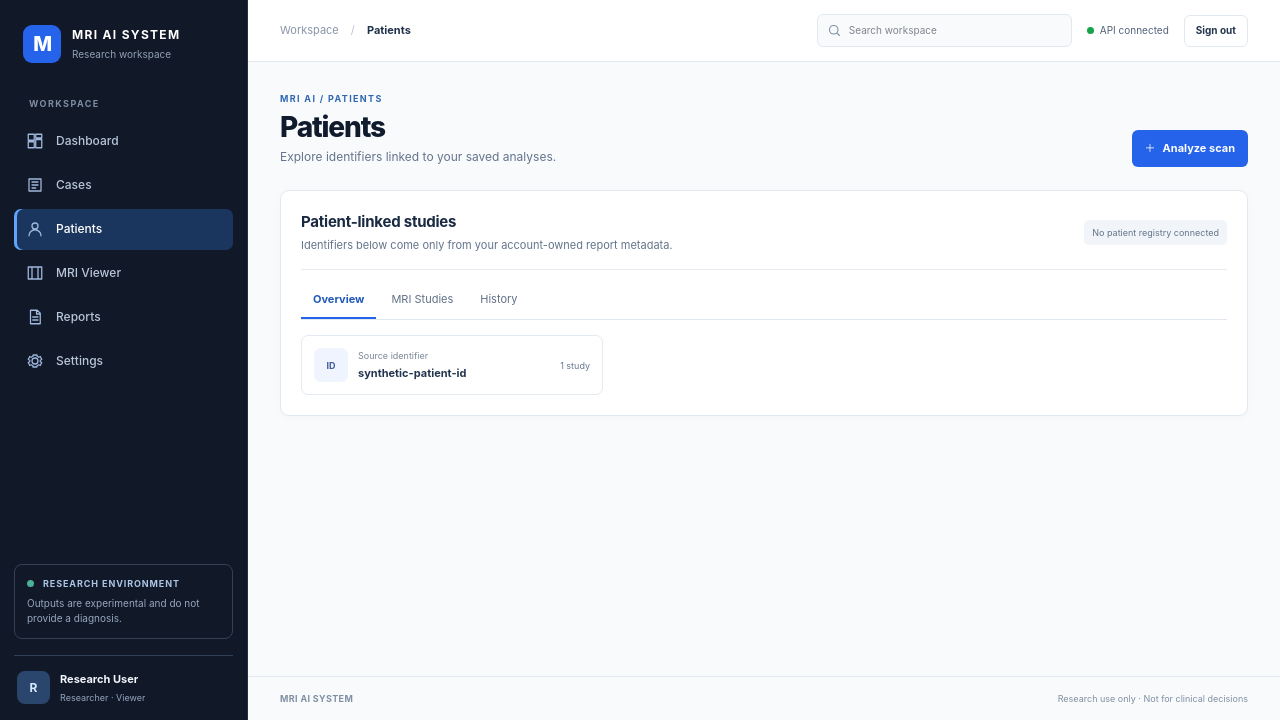
Test case: MRI research workspace › shows only patient identifiers present in owned report metadata
Expected: the text "synthetic-patient-id" is shown, [358, 366, 466, 380]
Click the tab "MRI Studies" at x=422, y=300, box [379, 281, 465, 319]
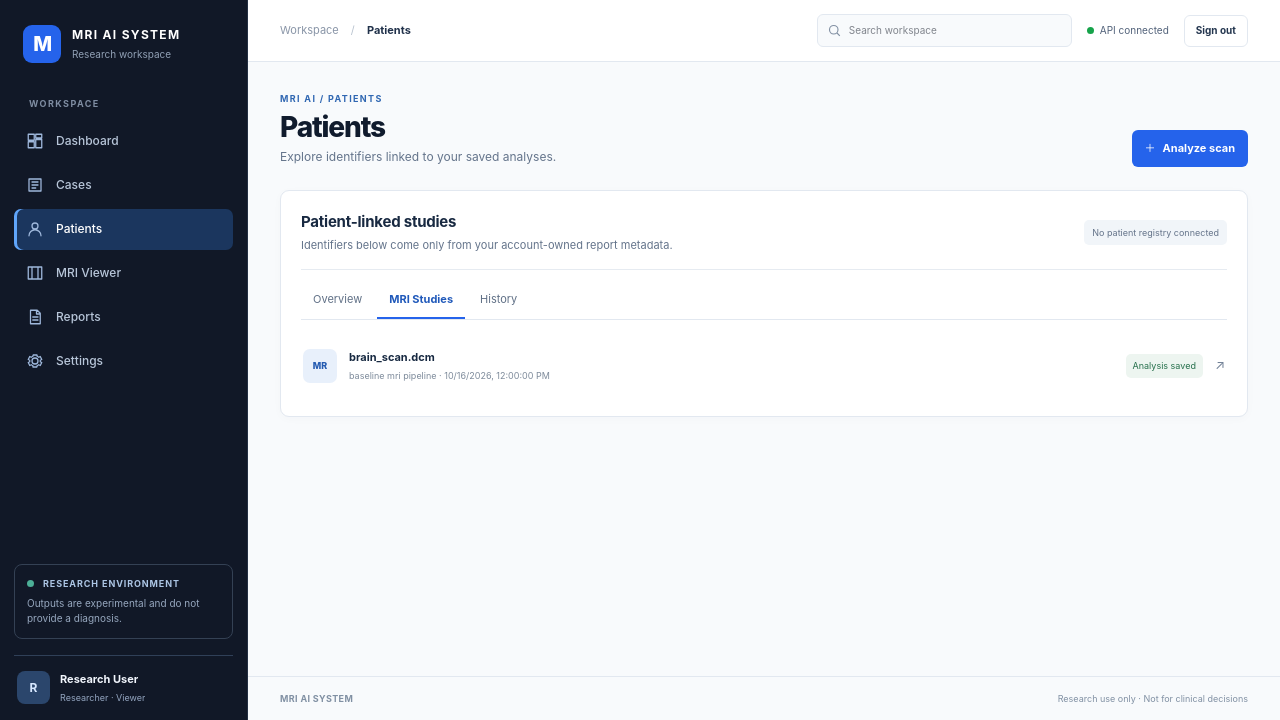
Result: the text "brain_scan.dcm" is shown at [349, 350, 435, 364]
Click the tab "History" at x=499, y=300, box [468, 281, 529, 319]
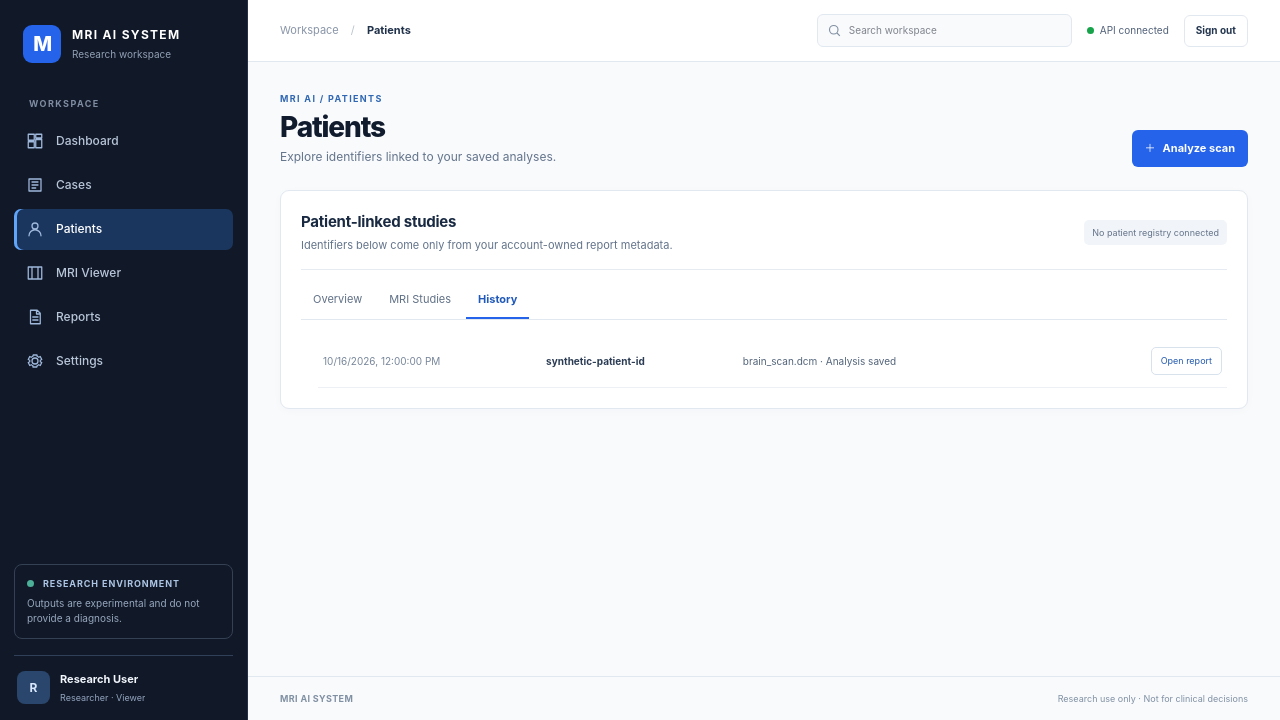
Result: the button "Open report" is shown at [1151, 347, 1222, 375]
